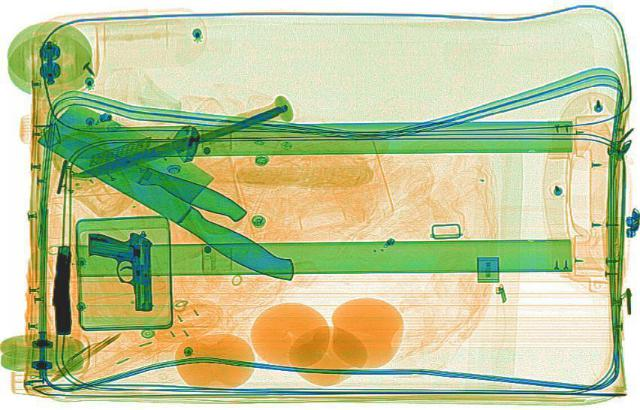Gun: (83, 228, 159, 311), (47, 244, 75, 333)
Knife: (19, 96, 339, 286), (29, 118, 252, 222), (69, 102, 294, 183)
